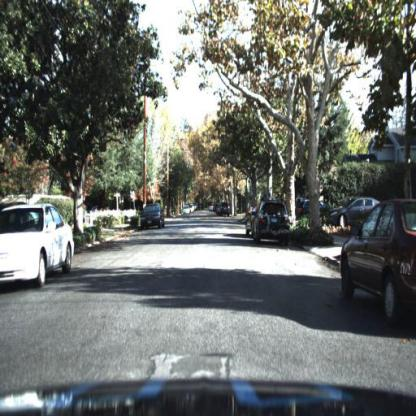car: (340, 199, 416, 331), (1, 200, 78, 294), (326, 193, 384, 232), (253, 200, 293, 245), (327, 197, 371, 230), (297, 195, 331, 221), (140, 201, 166, 228), (243, 208, 254, 239), (219, 202, 231, 218)
